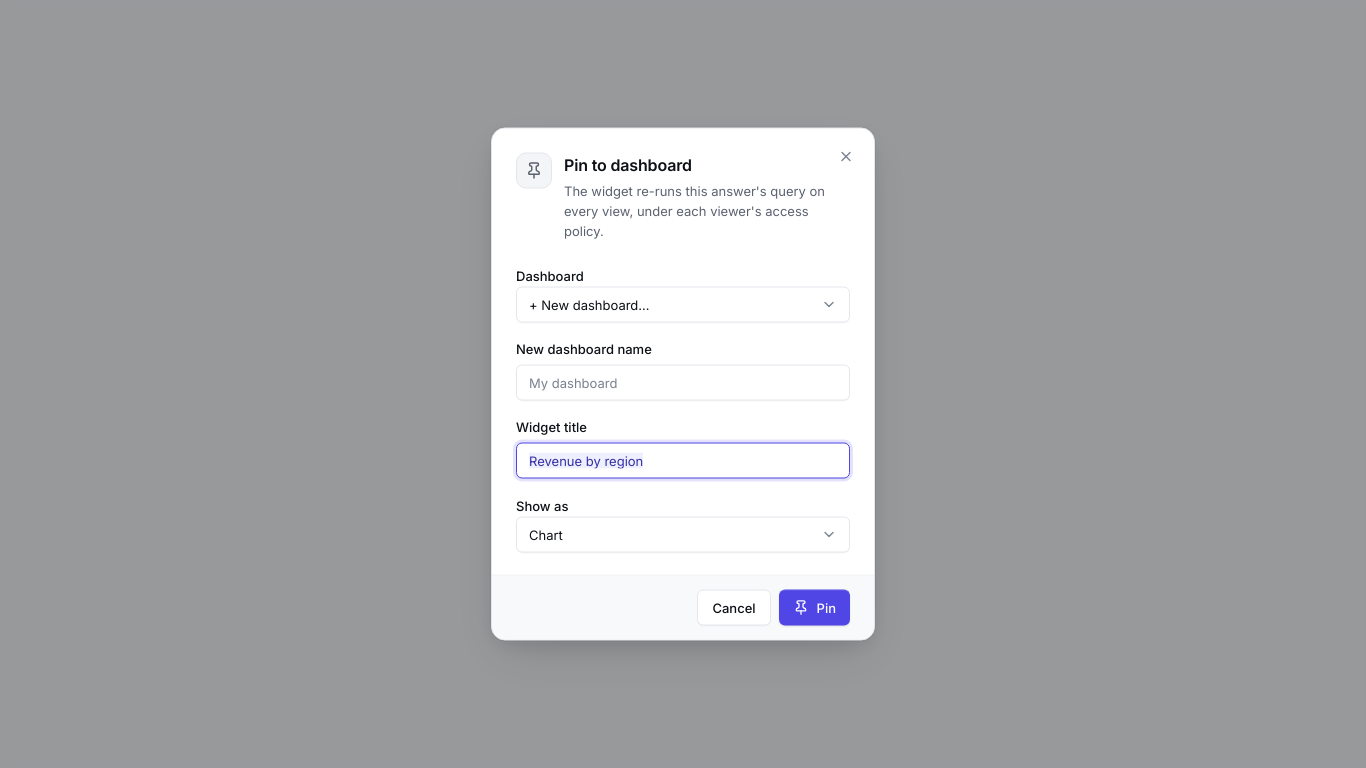
Test: PinDialog with a new dashboard › reuses the dashboard it created when the pin is retried after a failure
Note: No dashboards yet, so the dialog offers a new one.
Step 1. Type "Sales" into the field labelled "New dashboard name" → [683, 382], box [516,364,850,400]
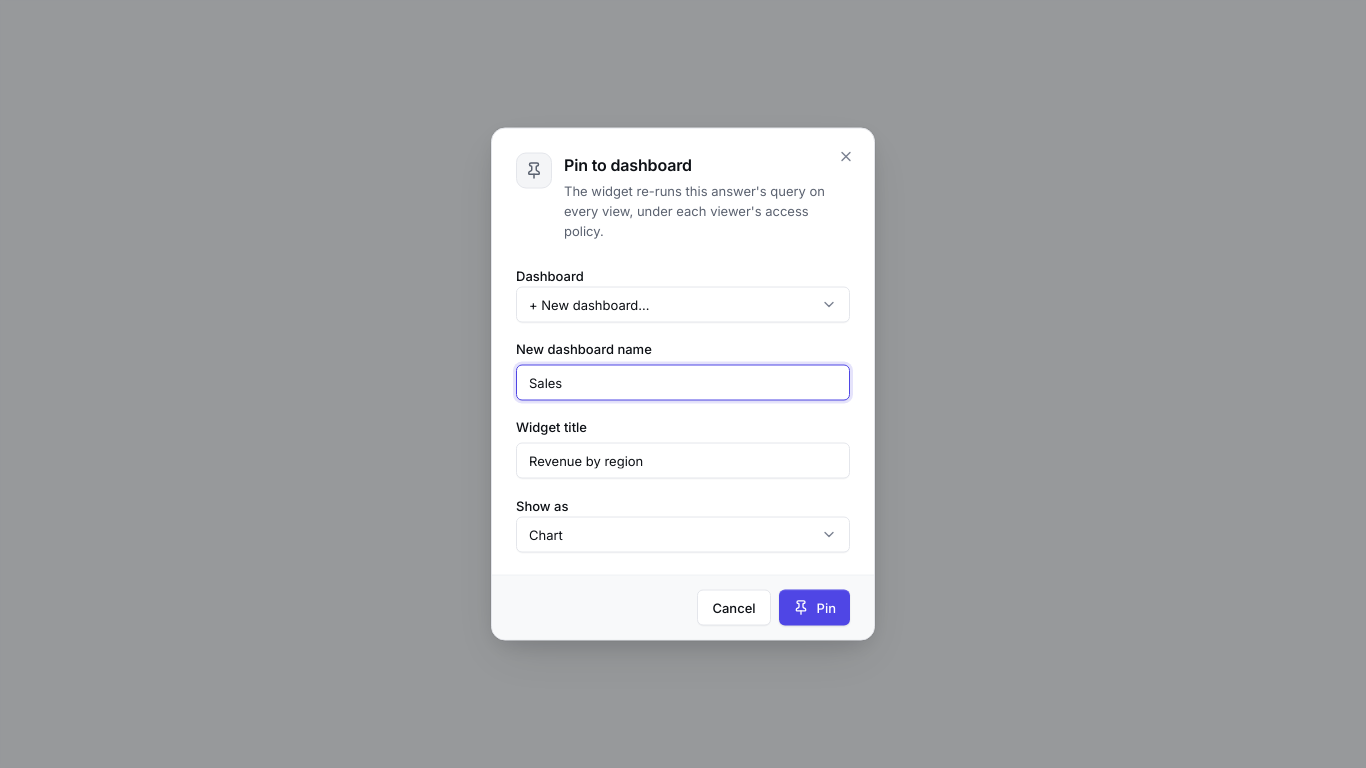
Step 2. Click the button "Pin" → [814, 608], box [779,590,850,626]
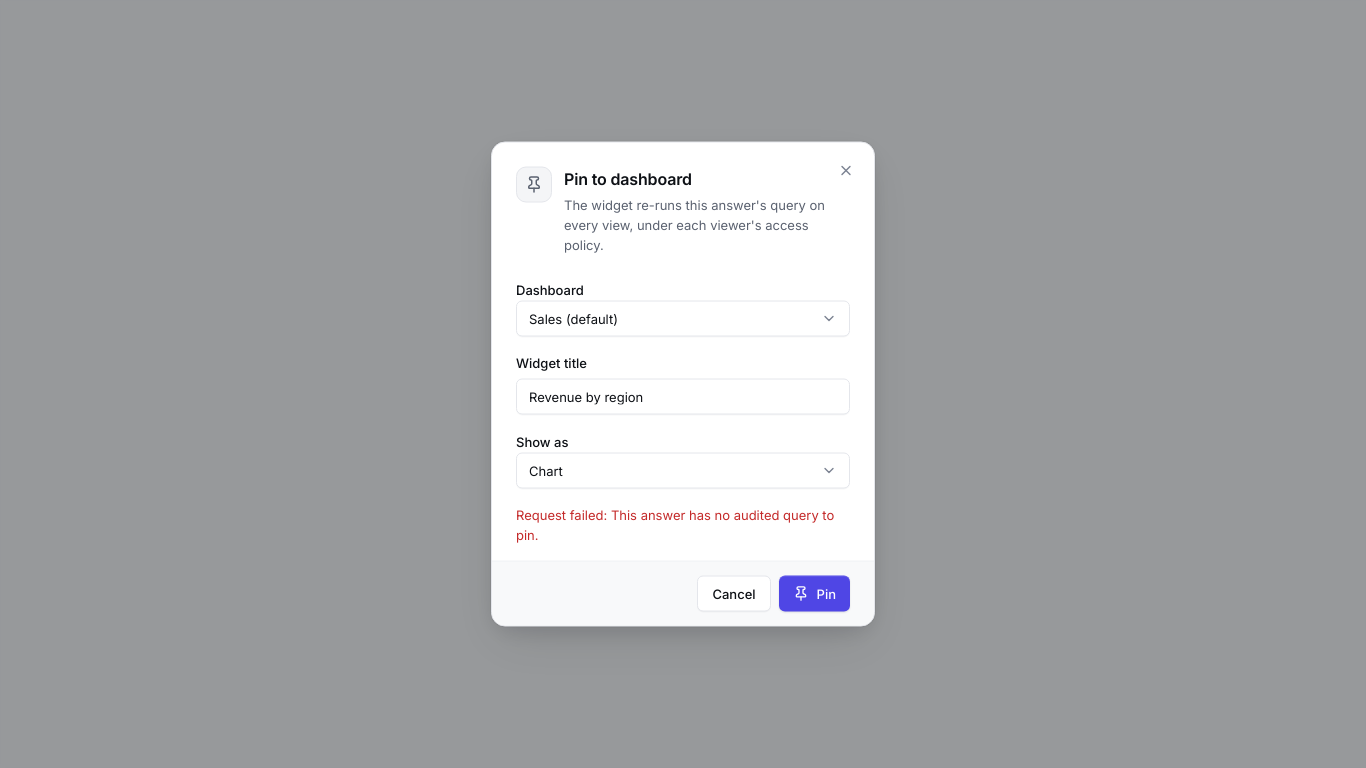
Expected: the message "Request failed: This answer has no audited query to pin." is shown, [516,504,850,544]
Step 3. Click the button "Pin" → [814, 594], box [779,576,850,612]
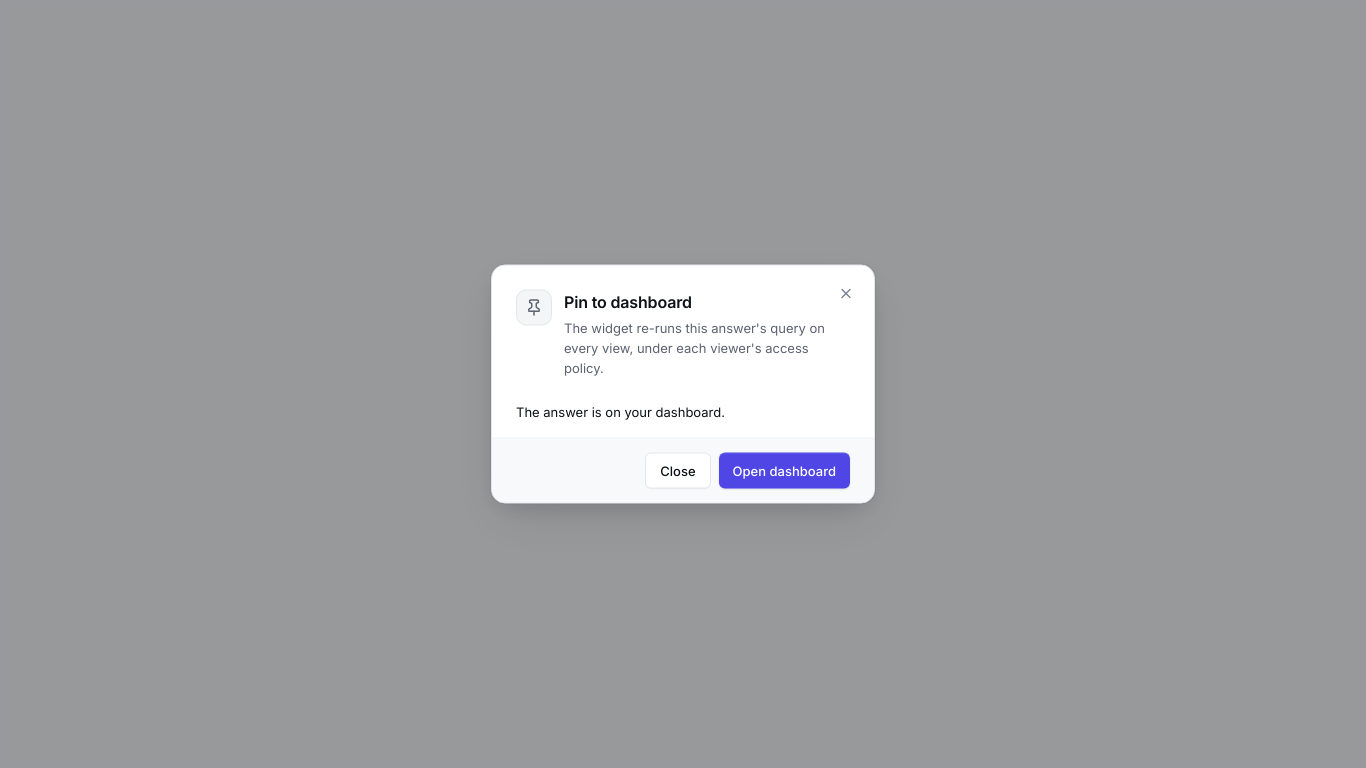
Expected: the text "The answer is on your dashboard." is shown, [516,404,725,420]
